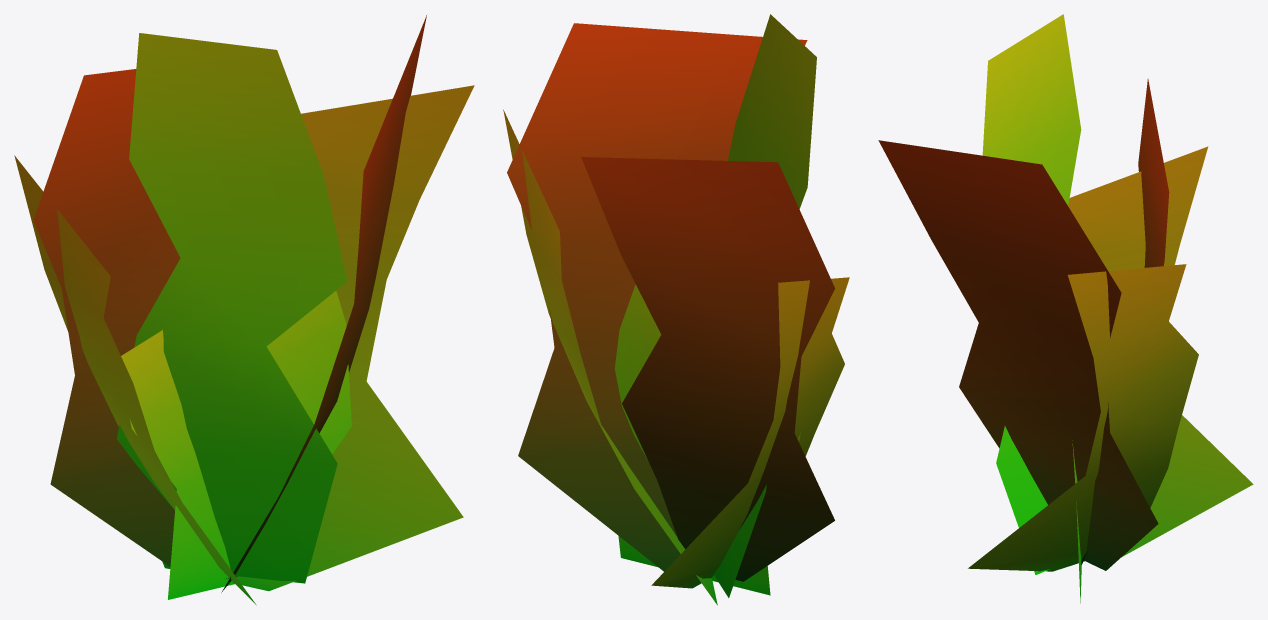
Rendered from Var8Hi31.fbx.
The picture shows the model from 3 angles, left to right: view 1: azimuth 30°, elevation 25°; view 2: azimuth 150°, elevation 25°; view 3: azimuth 270°, elevation 25°; orthographic projection. The views are drawn at different scales.
Visible parts, largest first — view 1: bend1; view 2: bend1; view 3: bend1.
Boxes of the visible parts, bbox=[...] form: bend1: bbox=[14, 15, 474, 605]; bend1: bbox=[503, 14, 849, 605]; bend1: bbox=[878, 14, 1253, 603].
Size of the model in its own units: 1.27 by 1.77 by 1.19.
